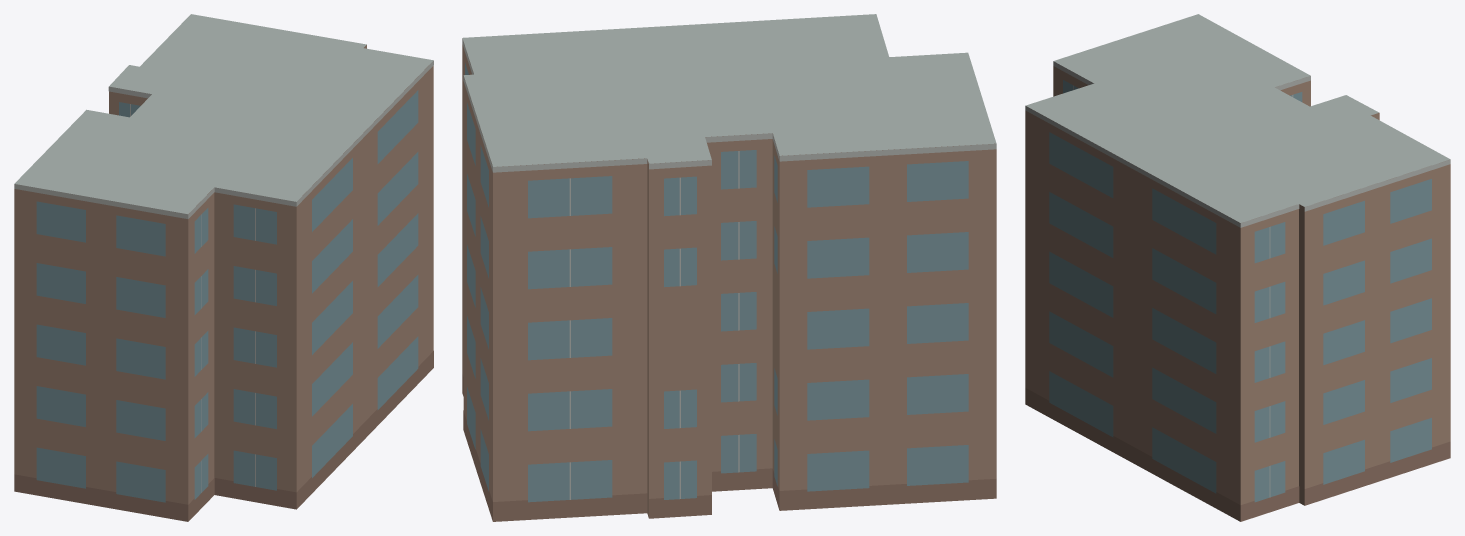
Rendered from survey-upis-32961569.glb.
3 renders of one model, left to right at view 1: azimuth 30°, elevation 25°; view 2: azimuth 150°, elevation 25°; view 3: azimuth 270°, elevation 25°, orthographic. The views are drawn at different scales.
Parts seen in each view (by area): view 1: survey-upis-32961569.tmp; view 2: survey-upis-32961569.tmp; view 3: survey-upis-32961569.tmp.
Part boxes in pixels (x1,y1,x2,y2): survey-upis-32961569.tmp: (14,14,433,521); survey-upis-32961569.tmp: (462,14,996,521); survey-upis-32961569.tmp: (1025,14,1450,521).
Size of the model in its own units: 22.9 by 15.25 by 19.68.
